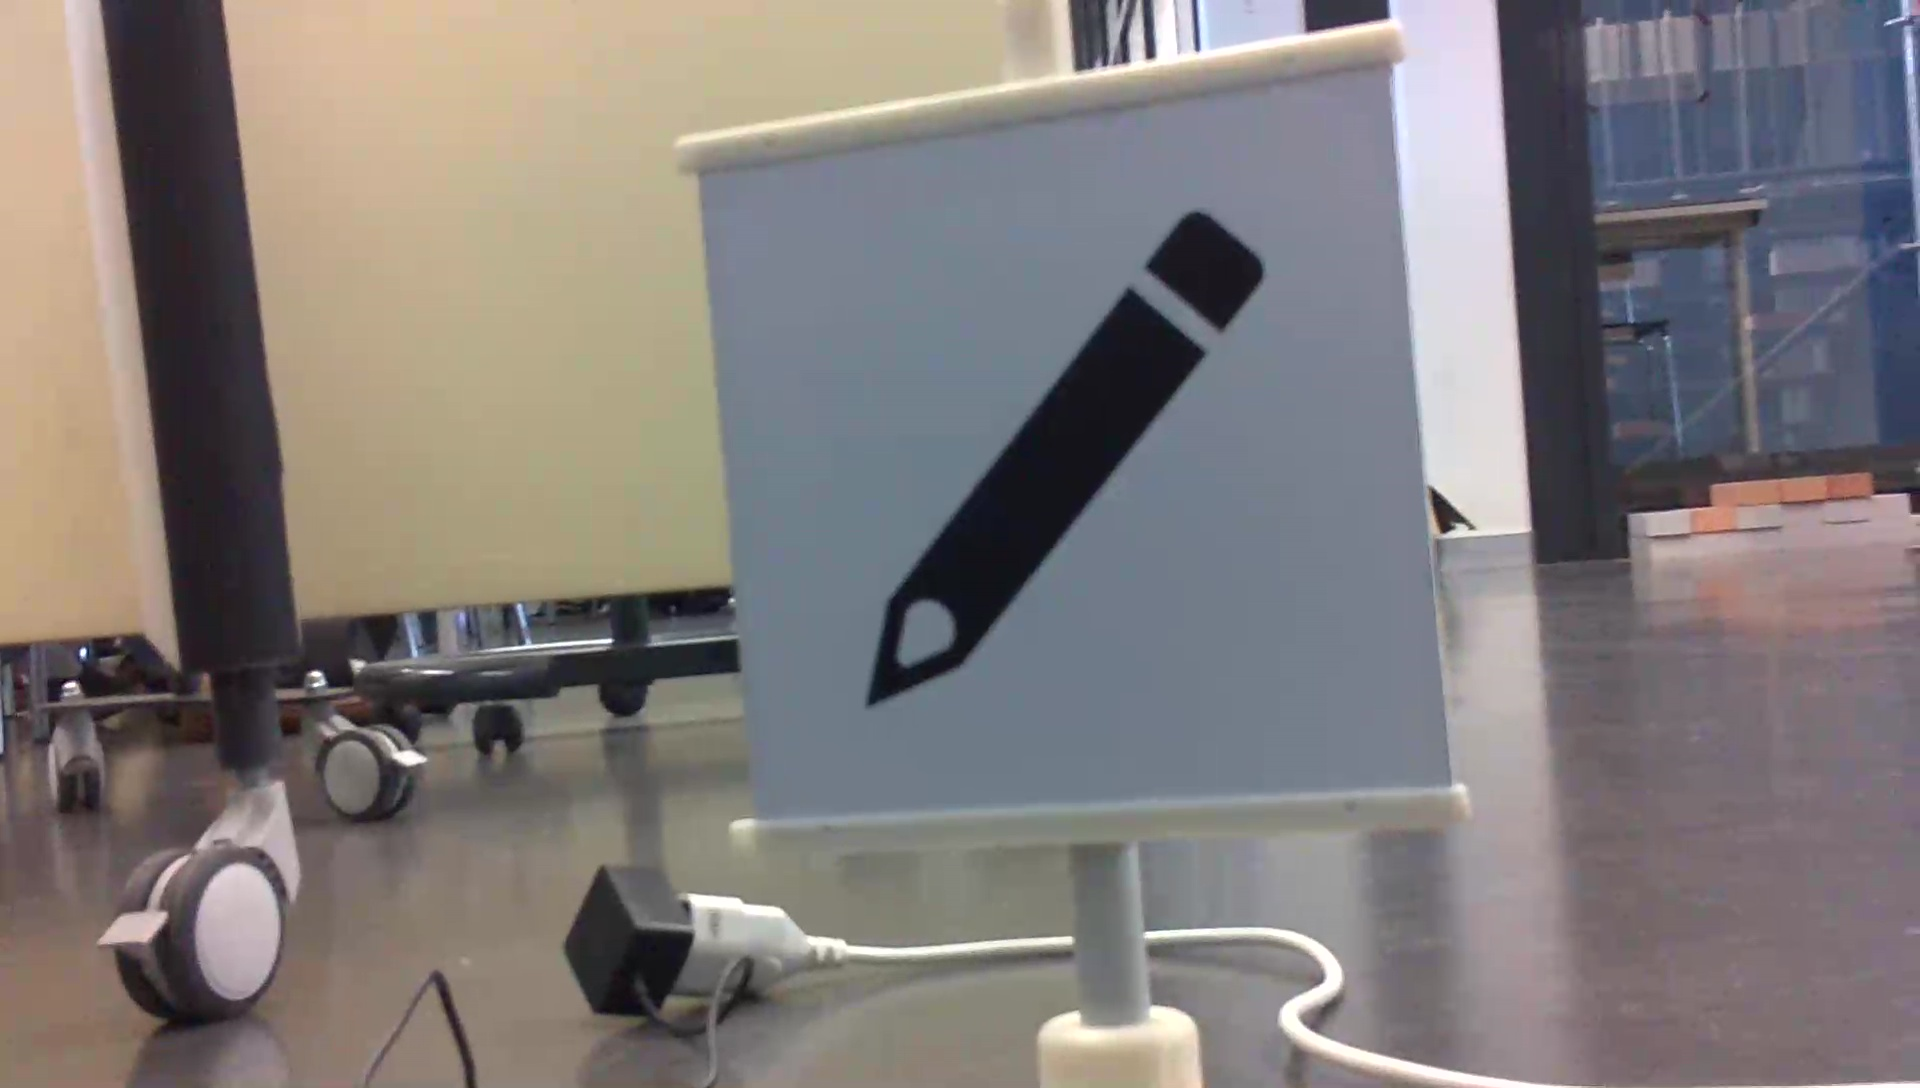pencil: (852, 198, 1275, 719)
